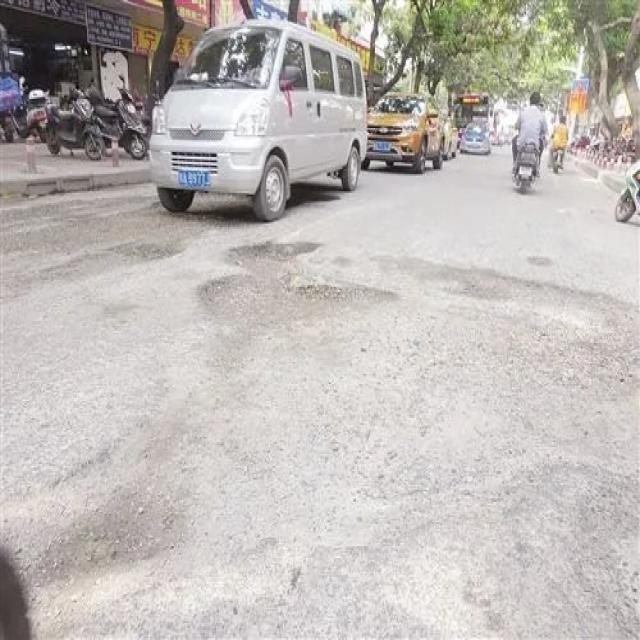Pothole: (197, 242, 397, 308), (120, 239, 187, 261)
